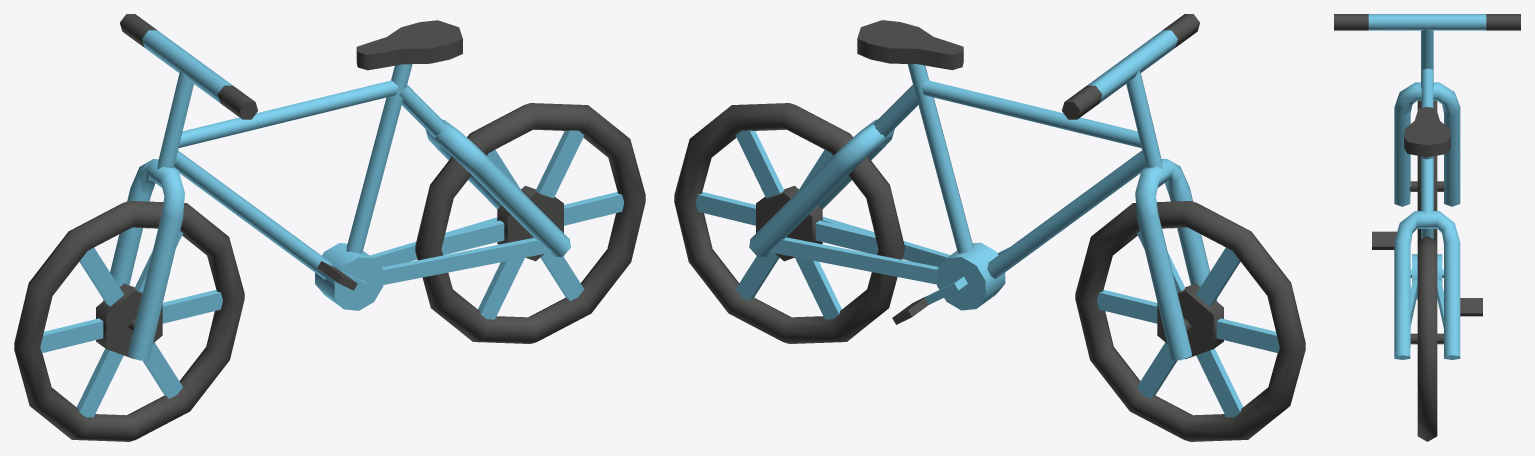
The model's file is bike_blue.fbx.
3 views of the same model, side by side, from view 1: azimuth 30°, elevation 25°; view 2: azimuth 150°, elevation 25°; view 3: azimuth 270°, elevation 25° (orthographic). The views are drawn at different scales.
Parts seen in each view (by area): view 1: bike_blue; view 2: bike_blue; view 3: bike_blue.
Part boxes in pixels (x1,y1,x2,y2): bike_blue: [14, 14, 645, 441]; bike_blue: [674, 14, 1305, 441]; bike_blue: [1334, 14, 1520, 441].
Size of the model in its own units: 131 by 73.55 by 43.26.
Materials: 1 (1 with a texture image).
